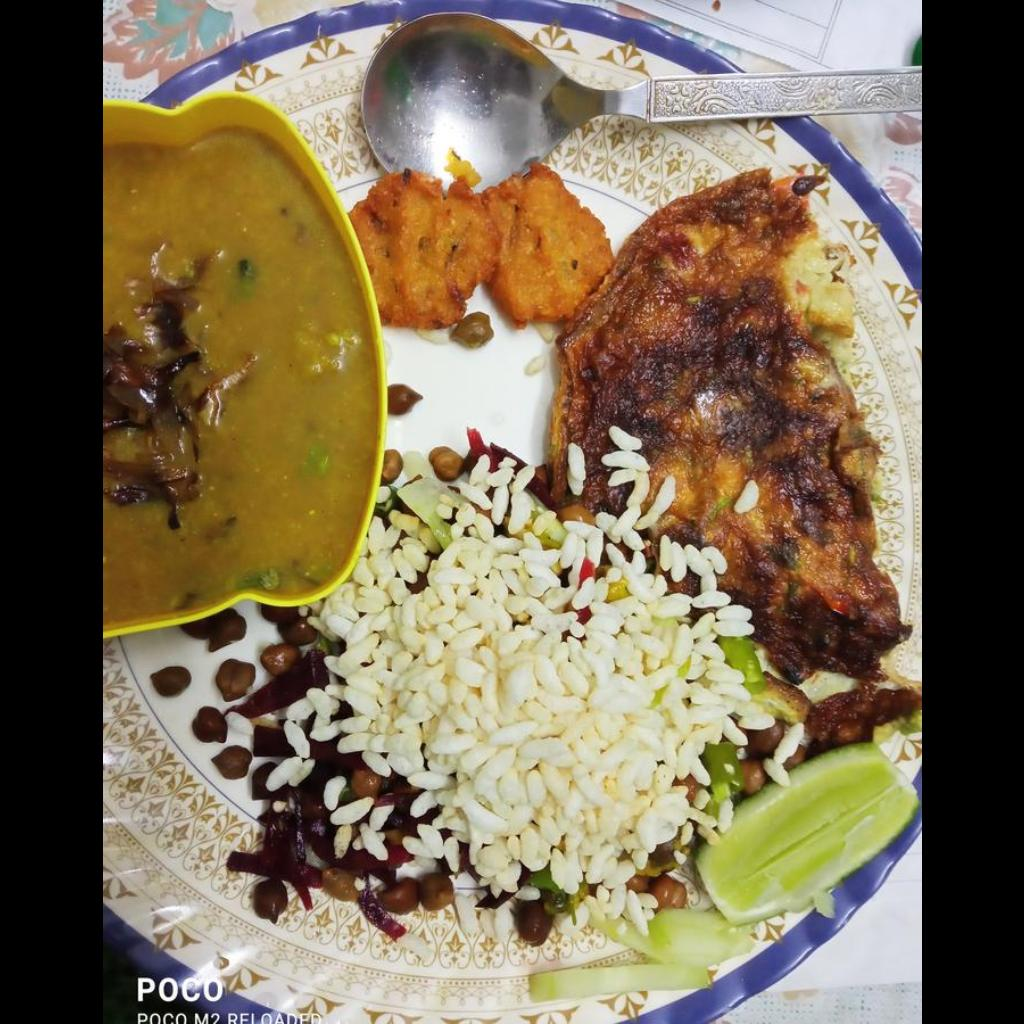daal: (102, 131, 379, 619)
egg-poached: (558, 168, 897, 679)
lemon: (684, 753, 914, 922)
peyaju: (344, 162, 609, 330)
puffed-rice: (337, 520, 724, 913)
